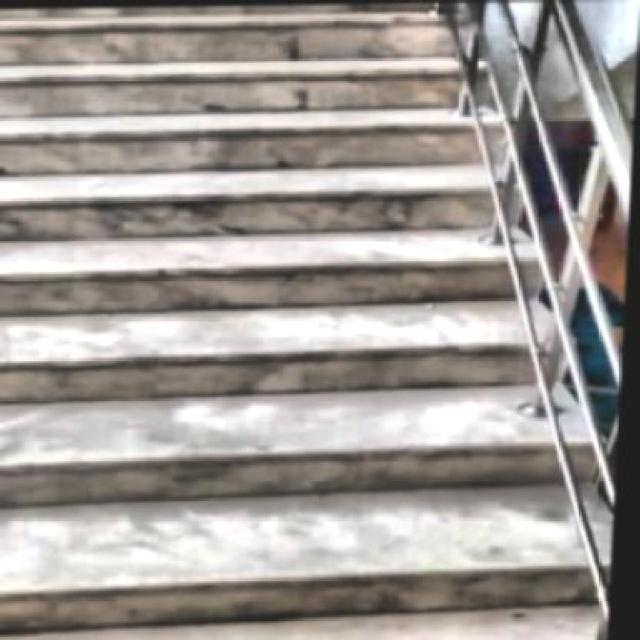stair: (2, 0, 585, 638)
